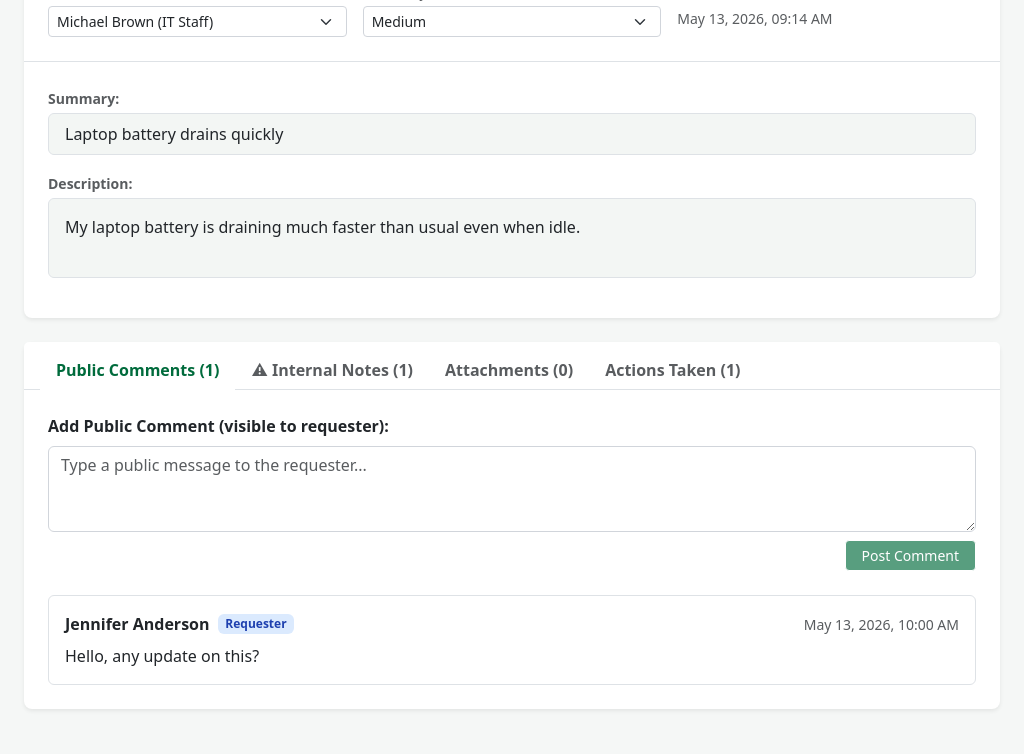
Lab 3 Staff Ticket Detail UI Tests (UI-06, UI-07, UI-08) › UI-08: renders public comments with green accent and internal notes with amber warning styling and security banner (AC-14, AC-15)
(page scrolled)
Note: Switch to Internal Notes Tab
Click the tab "⚠ Internal Notes (1)": (332, 370) x1=235 y1=350 x2=429 y2=390
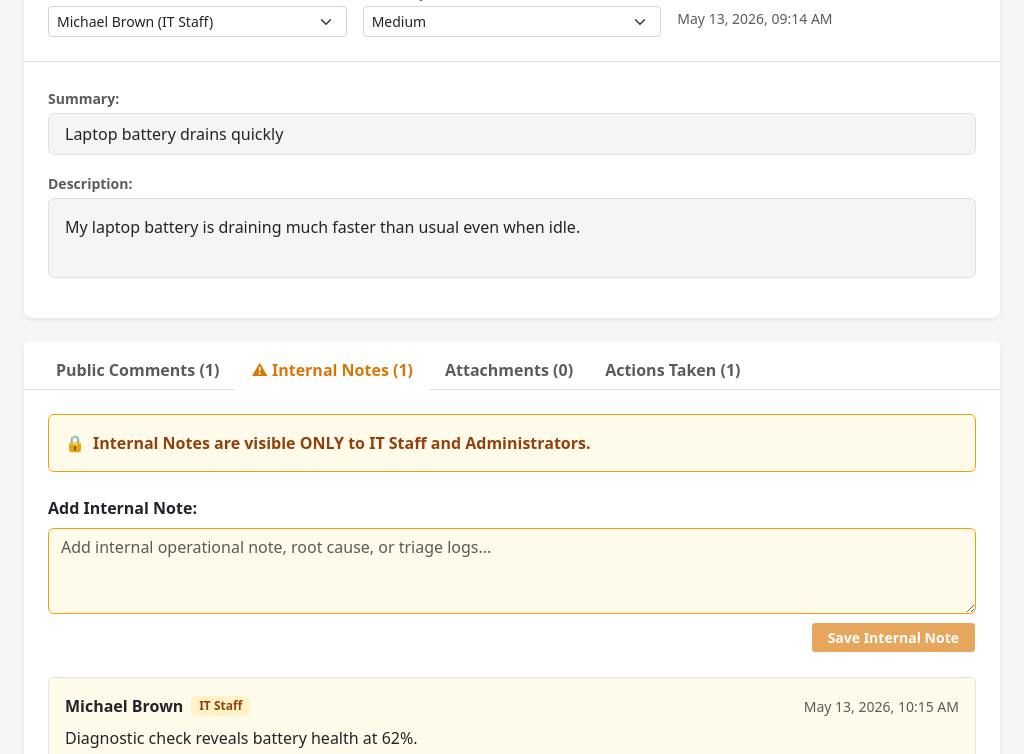
Check: the text "Internal Notes are visible ONLY to IT Staff and Administrators" is shown, box x1=93 y1=432 x2=590 y2=454
Check: the text "Diagnostic check reveals battery health at 62%." is shown, box x1=65 y1=727 x2=418 y2=749
Note: Switch back to Public Comments Tab
Click the tab "Public Comments (1)": (138, 370) x1=40 y1=350 x2=235 y2=390
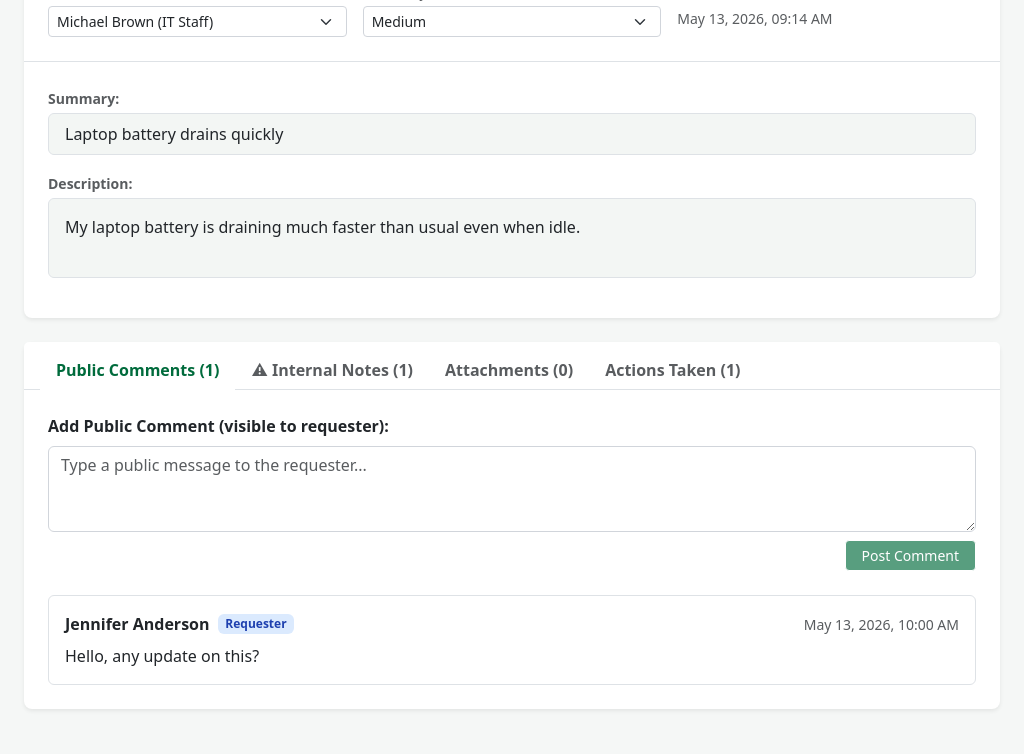
Check: the text "Hello, any update on this?" is shown, box x1=65 y1=645 x2=259 y2=667
